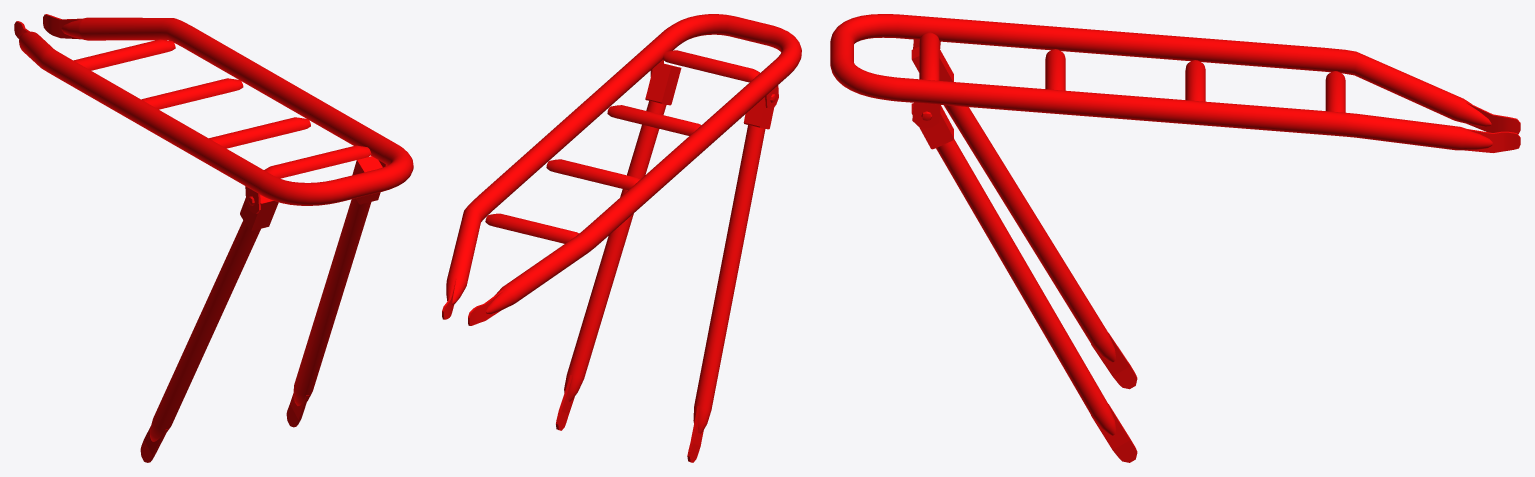
The model's file is Trunk.fbx.
3 views of the same model, side by side, from view 1: azimuth 30°, elevation 25°; view 2: azimuth 150°, elevation 25°; view 3: azimuth 270°, elevation 25° (orthographic). The views are drawn at different scales.
Parts seen in each view (by area): view 1: Trunk; view 2: Trunk; view 3: Trunk.
Boxes of the visible parts, x1,y1,x2,y2 form: Trunk: (14,14,413,462); Trunk: (442,14,801,462); Trunk: (830,14,1520,462).
Size of the model in its own units: 169 by 376 by 615.
